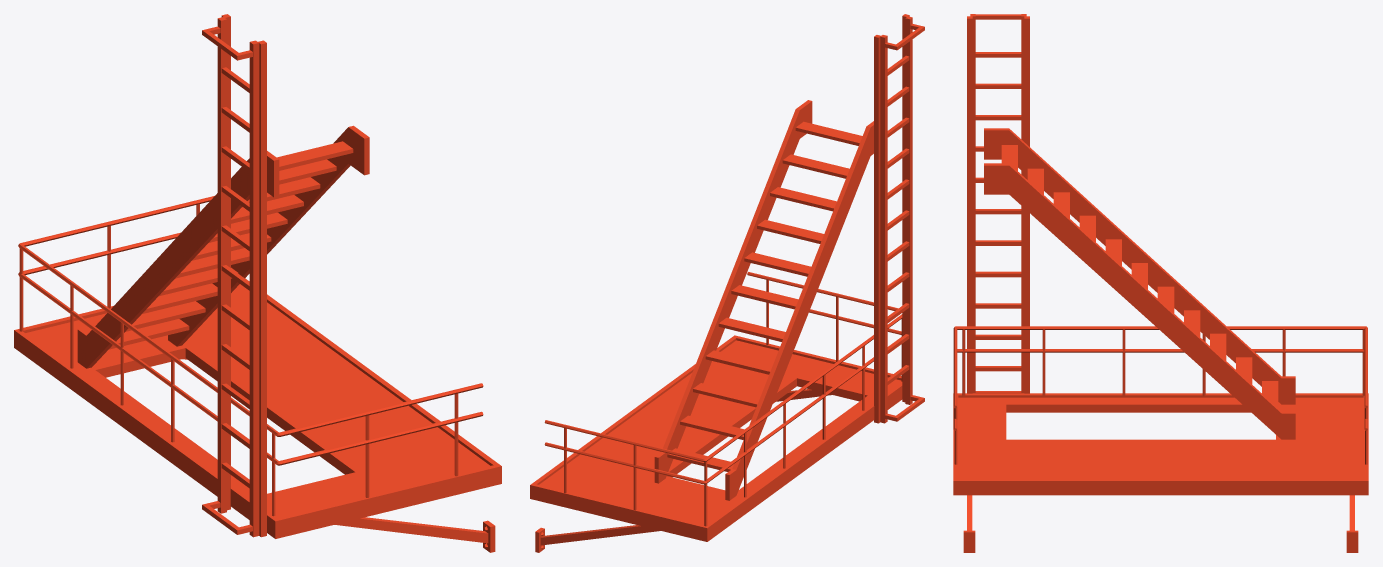
The model's file is SM_Fire_Escape_Bottom_City.fbx.
The picture shows the model from 3 angles, left to right: view 1: azimuth 30°, elevation 25°; view 2: azimuth 150°, elevation 25°; view 3: azimuth 270°, elevation 25°; orthographic projection. The views are drawn at different scales.
Parts seen in each view (by area): view 1: SM_Fire_Escape_Bottom_City; view 2: SM_Fire_Escape_Bottom_City; view 3: SM_Fire_Escape_Bottom_City.
Boxes of the visible parts, x1,y1,x2,y2 form: SM_Fire_Escape_Bottom_City: (14, 14, 501, 552); SM_Fire_Escape_Bottom_City: (530, 14, 924, 552); SM_Fire_Escape_Bottom_City: (953, 14, 1368, 552).
Bounding box in the file's own units: 2.25 × 4.75 × 4.
